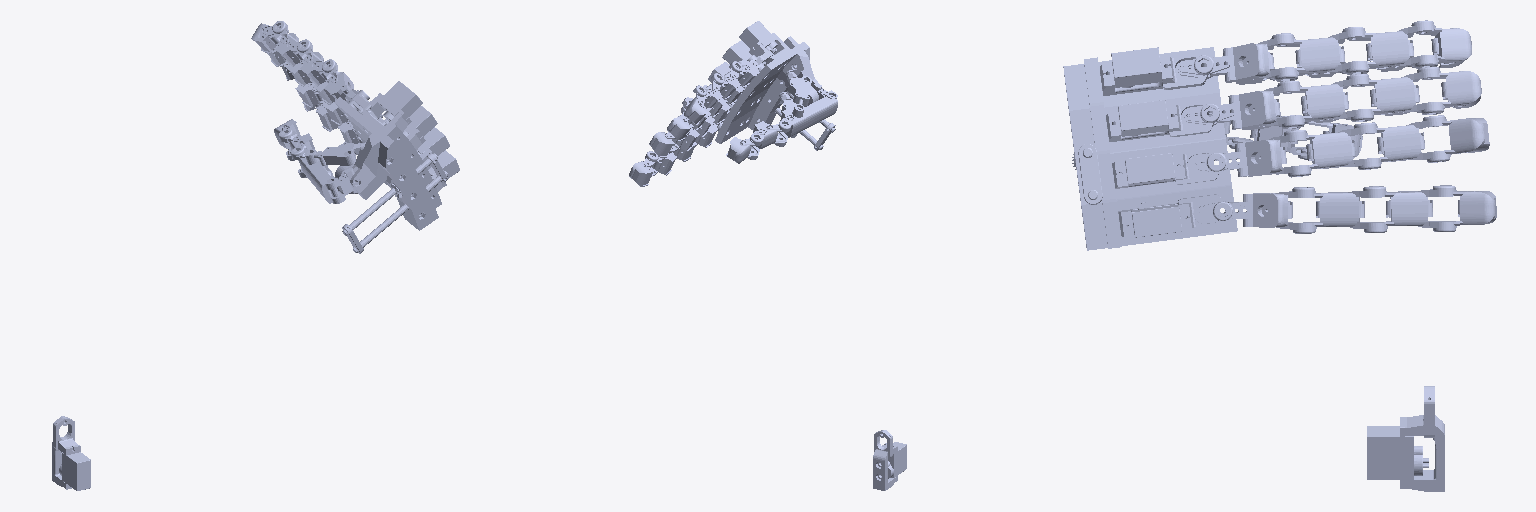
--- What the picture shows (computed from the rendered views, not written in the file) ---
Views: 3 orthographic renders of the robot side by side, from view 1: azimuth 30°, elevation 25°; view 2: azimuth 150°, elevation 25°; view 3: azimuth 270°, elevation 25°.
Robot: roborscht_v1 — 22 links, 21 joints (21 revolute); root link base_link; default pose: every joint at zero.
Visible links, largest first — view 1: wrist_link, base_link, thumb_aa_link, thumb_metacarpal_link, index_metacarpal_link, index_proximal_link, index_middle_link, index_distal_link; view 2: wrist_link, base_link, thumb_metacarpal_link, thumb_aa_link, thumb_proximal_link, index_metacarpal_link; view 3: wrist_link, base_link, index_metacarpal_link, middle_metacarpal_link, ring_metacarpal_link, little_metacarpal_link, index_proximal_link, index_middle_link, middlle_middle_link, middle_proximal_link, little_proximal_link, ring_proximal_link (+7 smaller).
Boxes of the visible links, left/top/right/bottom form: wrist_link: left=334, top=81, right=459, bottom=253; base_link: left=52, top=416, right=90, bottom=490; thumb_aa_link: left=318, top=142, right=365, bottom=203; thumb_metacarpal_link: left=290, top=146, right=339, bottom=203; index_metacarpal_link: left=322, top=59, right=369, bottom=112; index_proximal_link: left=297, top=39, right=329, bottom=86; index_middle_link: left=272, top=21, right=319, bottom=66; index_distal_link: left=251, top=23, right=294, bottom=53; wrist_link: left=708, top=21, right=835, bottom=150; base_link: left=873, top=430, right=906, bottom=490; thumb_metacarpal_link: left=775, top=96, right=837, bottom=146; thumb_aa_link: left=779, top=70, right=837, bottom=112; thumb_proximal_link: left=748, top=121, right=785, bottom=159; index_metacarpal_link: left=721, top=55, right=766, bottom=87; wrist_link: left=1063, top=47, right=1237, bottom=250; base_link: left=1367, top=386, right=1444, bottom=491; index_metacarpal_link: left=1178, top=33, right=1298, bottom=84; middle_metacarpal_link: left=1184, top=81, right=1304, bottom=129; ring_metacarpal_link: left=1191, top=130, right=1311, bottom=177; little_metacarpal_link: left=1197, top=187, right=1316, bottom=233; index_proximal_link: left=1275, top=27, right=1369, bottom=77; index_middle_link: left=1347, top=20, right=1438, bottom=71; middlle_middle_link: left=1351, top=67, right=1444, bottom=115; middle_proximal_link: left=1283, top=74, right=1373, bottom=122; little_proximal_link: left=1303, top=186, right=1387, bottom=232; ring_proximal_link: left=1289, top=122, right=1381, bottom=169.
Bounding box of the posed robot: 0.2622 × 0.207 × 0.331 m (x, y, z).
Meshes: 22 distinct files referenced, 22 mesh visuals loaded (22 binary STL).

robot.urdf — roborscht_v1:
<?xml version="1.0" encoding="utf-8"?>
<!-- This URDF was automatically created by SolidWorks to URDF Exporter! Originally created by Stephen Brawner ([email redacted]) 
     Commit Version: 1.6.0-4-g7f85cfe  Build Version: 1.6.7995.38578
     For more information, please see http://wiki.ros.org/sw_urdf_exporter -->
<robot
  name="roborscht_v1">
  <link name="base_link">
    <inertial>
      <origin
        xyz="0.19082 0.2446 0.36397"
        rpy="0 0 0" />
      <mass
        value="1.6006" />
      <inertia
        ixx="0.0027065"
        ixy="-1.4207E-06"
        ixz="-1.8502E-05"
        iyy="0.0027153"
        iyz="-4.5228E-06"
        izz="0.0025317" />
    </inertial>
    <visual>
      <origin
        xyz="0 0 0"
        rpy="0 0 0" />
      <geometry>
        <mesh
          filename="package://roborscht_description/meshes/roborscht_v1/base_link.STL" />
      </geometry>
      <material
        name="">
        <color
          rgba="0.79216 0.81961 0.93333 1" />
      </material>
    </visual>
    <collision>
      <origin
        xyz="0 0 0"
        rpy="0 0 0" />
      <geometry>
        <mesh
          filename="package://roborscht_description/meshes/roborscht_v1/base_link.STL" />
      </geometry>
    </collision>
  </link>
  <link
    name="wrist_link">
    <inertial>
      <origin xyz="0.018305 -0.013109 -0.086448" rpy="0 0 0" />
      <mass
        value="0.11966" />
      <inertia
        ixx="4.4947E-05"
        ixy="-9.08E-06"
        ixz="3.6653E-06"
        iyy="4.1917E-05"
        iyz="2.668E-07"
        izz="6.8158E-05" />
    </inertial>
    <visual>
      <origin
        xyz="0 0 0"
        rpy="0 0 0" />
      <geometry>
        <mesh
          filename="package://roborscht_description/meshes/roborscht_v1/wrist_link.STL" />
      </geometry>
      <material
        name="">
        <color
          rgba="0.79216 0.81961 0.93333 1" />
      </material>
    </visual>
    <collision>
      <origin
        xyz="0 0 0"
        rpy="0 0 0" />
      <geometry>
        <mesh
          filename="package://roborscht_description/meshes/roborscht_v1/wrist_link.STL" />
      </geometry>
    </collision>
  </link>
  <joint
    name="wrist_joint"
    type="revolute">
    <origin
      xyz="0.12924 -0.17081 0.21193"
      rpy="-2.1474 0.41016 1.317" />
    <parent
      link="base_link" />
    <child
      link="wrist_link" />
    <axis
      xyz="0 0 1" />
    <limit
      lower="-0.35"
      upper="0.55"
      effort="0"
      velocity="0" />
  </joint>
  <link
    name="thumb_aa_link">
    <inertial>
      <origin
        xyz="-0.00212660017077074 1.7079246905638E-09 0.0162362437939987"
        rpy="0 0 0" />
      <mass
        value="0.00898644503420836" />
      <inertia
        ixx="3.35433913138657E-07"
        ixy="-1.69313470342621E-13"
        ixz="-6.94103606730084E-08"
        iyy="5.19122859673337E-07"
        iyz="-2.81811335710078E-17"
        izz="3.85453778045213E-07" />
    </inertial>
    <visual>
      <origin
        xyz="0 0 0"
        rpy="0 0 0" />
      <geometry>
        <mesh
          filename="package://roborscht_description/meshes/roborscht_v1/thumb_aa_link.STL" />
      </geometry>
      <material
        name="">
        <color
          rgba="0.79216 0.81961 0.93333 1" />
      </material>
    </visual>
    <collision>
      <origin
        xyz="0 0 0"
        rpy="0 0 0" />
      <geometry>
        <mesh
          filename="package://roborscht_description/meshes/roborscht_v1/thumb_aa_link.STL" />
      </geometry>
    </collision>
  </link>
  <joint
    name="thumb_aa_joint"
    type="revolute">
    <origin
      xyz="-0.0056393 -0.025446 -0.045227"
      rpy="-1.7505 -1.3806 -1.7419" />
    <parent
      link="wrist_link" />
    <child
      link="thumb_aa_link" />
    <axis
      xyz="0 0 1" />
    <limit
      lower="-0.3"
      upper="1.0"
      effort="0"
      velocity="0" />
  </joint>
  <link name="thumb_metacarpal_link">
    <inertial>
      <origin
        xyz="-8.60721114019913E-05 -0.00971093698909487 0.00950106301461773"
        rpy="0 0 0" />
      <mass
        value="0.0122468064217174" />
      <inertia
        ixx="2.77460428043579E-06"
        ixy="3.45217423783368E-07"
        ixz="8.70989574211703E-11"
        iyy="2.75392415515937E-07"
        iyz="-3.6631502566146E-10"
        izz="2.92983215462873E-06" />
    </inertial>
    <visual>
      <origin
        xyz="0 0 0"
        rpy="0 0 0" />
      <geometry>
        <mesh
          filename="package://roborscht_description/meshes/roborscht_v1/thumb_metacarpal_link.STL" />
      </geometry>
      <material
        name="">
        <color
          rgba="0.79216 0.81961 0.93333 1" />
      </material>
    </visual>
    <collision>
      <origin
        xyz="0 0 0"
        rpy="0 0 0" />
      <geometry>
        <mesh
          filename="package://roborscht_description/meshes/roborscht_v1/thumb_metacarpal_link.STL" />
      </geometry>
    </collision>
  </link>
  <joint
    name="thumb_metacarpal_joint"
    type="revolute">
    <origin
      xyz="0.010656 -0.0095 0.045101"
      rpy="1.5708 0.31307 -3.1416" />
    <parent
      link="thumb_aa_link" />
    <child
      link="thumb_metacarpal_link" />
    <axis
      xyz="0 0 1" />
    <limit
      lower="-0.3"
      upper="0"
      effort="0"
      velocity="0" />
  </joint>
  <link
    name="thumb_proximal_link">
    <inertial>
      <origin
        xyz="0.018149214818829 -0.00455519718647185 0.00799344247498654"
        rpy="0 0 0" />
      <mass
        value="0.00457448200289434" />
      <inertia
        ixx="8.91295201558358E-08"
        ixy="-3.01101643920931E-09"
        ixz="-2.40835659192878E-10"
        iyy="1.28490375435549E-07"
        iyz="-1.11699068650879E-11"
        izz="1.83487451253534E-07" />
    </inertial>
    <visual>
      <origin
        xyz="0 0 0"
        rpy="0 0 0" />
      <geometry>
        <mesh
          filename="package://roborscht_description/meshes/roborscht_v1/thumb_proximal_link.STL" />
      </geometry>
      <material
        name="">
        <color
          rgba="0.79216 0.81961 0.93333 1" />
      </material>
    </visual>
    <collision>
      <origin
        xyz="0 0 0"
        rpy="0 0 0" />
      <geometry>
        <mesh
          filename="package://roborscht_description/meshes/roborscht_v1/thumb_proximal_link.STL" />
      </geometry>
    </collision>
  </link>
  <joint
    name="thumb_proximal_joint"
    type="revolute">
    <origin
      xyz="-0.0089829 0.020526 0.0015"
      rpy="0 0 1.706" />
    <parent
      link="thumb_metacarpal_link" />
    <child
      link="thumb_proximal_link" />
    <axis
      xyz="0 0 1" />
    <limit
      lower="-1.2"
      upper="0"
      effort="0"
      velocity="0" />
    <mimic
      joint="thumb_metacarpal_joint"
      multiplier="1"
      offset="0" />
  </joint>
  <link
    name="thumb_distal_link">
    <inertial>
      <origin
        xyz="0.0141234269677802 -0.00526491643878635 0.00811935715786616"
        rpy="0 0 0" />
      <mass
        value="0.00324557810719338" />
      <inertia
        ixx="6.62419379953252E-08"
        ixy="7.47823317282738E-09"
        ixz="3.87177440285619E-10"
        iyy="7.00047283347757E-08"
        iyz="7.73937952275295E-10"
        izz="1.102707816134E-07" />
    </inertial>
    <visual>
      <origin
        xyz="0 0 0"
        rpy="0 0 0" />
      <geometry>
        <mesh
          filename="package://roborscht_description/meshes/roborscht_v1/thumb_distal_link.STL" />
      </geometry>
      <material
        name="">
        <color
          rgba="0.79216 0.81961 0.93333 1" />
      </material>
    </visual>
    <collision>
      <origin
        xyz="0 0 0"
        rpy="0 0 0" />
      <geometry>
        <mesh
          filename="package://roborscht_description/meshes/roborscht_v1/thumb_distal_link.STL" />
      </geometry>
    </collision>
  </link>
  <joint
    name="thumb_distal_joint"
    type="revolute">
    <origin
      xyz="0.033972 0 0"
      rpy="0 0 0.21321" />
    <parent
      link="thumb_proximal_link" />
    <child
      link="thumb_distal_link" />
    <axis
      xyz="0 1 0" />
    <limit
      lower="-1.2"
      upper="0"
      effort="0"
      velocity="0" />
    <mimic
      joint="thumb_proximal_joint"
      multiplier="1"
      offset="0" />
  </joint>
  <link
    name="index_metacarpal_link">
    <inertial>
      <origin
        xyz="2.55551413871902E-06 -0.0200961421256252 -0.00266508775681462"
        rpy="0 0 0" />
      <mass
        value="0.00537510181030488" />
      <inertia
        ixx="2.53059726687794E-07"
        ixy="1.87672034212162E-10"
        ixz="2.35491908925758E-11"
        iyy="1.08190444992497E-07"
        iyz="-2.205146950838E-08"
        izz="2.0581640988927E-07" />
    </inertial>
    <visual>
      <origin
        xyz="0 0 0"
        rpy="0 0 0" />
      <geometry>
        <mesh
          filename="package://roborscht_description/meshes/roborscht_v1/index_metacarpal_link.STL" />
      </geometry>
      <material
        name="">
        <color
          rgba="0.79216 0.81961 0.93333 1" />
      </material>
    </visual>
    <collision>
      <origin
        xyz="0 0 0"
        rpy="0 0 0" />
      <geometry>
        <mesh
          filename="package://roborscht_description/meshes/roborscht_v1/index_metacarpal_link.STL" />
      </geometry>
    </collision>
  </link>
  <joint
    name="index_metacarpal_joint"
    type="revolute">
    <origin
      xyz="0.030138 -0.062731 -0.088417"
      rpy="0.0049057 0.13081 1.0012" />
    <parent
      link="wrist_link" />
    <child
      link="index_metacarpal_link" />
    <axis
      xyz="0 1 0" />
    <limit
      lower="-0.3"
      upper="0.3"
      effort="0"
      velocity="0" />
  </joint>
  <link
    name="index_proximal_link">
    <inertial>
      <origin
        xyz="0.00051935573801689 0.0566644154125854 -0.0362930706995756"
        rpy="0 0 0" />
      <mass
        value="0.00457448190751612" />
      <inertia
        ixx="8.91294709194268E-08"
        ixy="-3.01112035431887E-09"
        ixz="-2.40840507284241E-10"
        iyy="1.28490383116722E-07"
        iyz="-1.11553357864659E-11"
        izz="1.83487409642401E-07" />
    </inertial>
    <visual>
      <origin
        xyz="0 0 0"
        rpy="0 0 0" />
      <geometry>
        <mesh
          filename="package://roborscht_description/meshes/roborscht_v1/index_proximal_link.STL" />
      </geometry>
      <material
        name="">
        <color
          rgba="0.79216 0.81961 0.93333 1" />
      </material>
    </visual>
    <collision>
      <origin
        xyz="0 0 0"
        rpy="0 0 0" />
      <geometry>
        <mesh
          filename="package://roborscht_description/meshes/roborscht_v1/index_proximal_link.STL" />
      </geometry>
    </collision>
  </link>
  <joint
    name="index_proximal_joint"
    type="revolute">
    <origin
      xyz="0.036287 -0.056392 0.053492"
      rpy="-1.5708 -0.00038125 -1.5708" />
    <parent
      link="index_metacarpal_link" />
    <child
      link="index_proximal_link" />
    <axis
      xyz="0 0 1" />
    <limit
      lower="-1.2"
      upper="0"
      effort="0"
      velocity="0" />
  </joint>
  <link
    name="index_middle_link">
    <inertial>
      <origin
        xyz="0.0177672195308634 -0.00447480480512841 0.007993160303187"
        rpy="0 0 0" />
      <mass
        value="0.00438641361681086" />
      <inertia
        ixx="8.46514970616483E-08"
        ixy="-3.0121684387915E-09"
        ixz="-2.30777816852129E-10"
        iyy="1.17446280140492E-07"
        iyz="-1.11038589645318E-11"
        izz="1.69859433490933E-07" />
    </inertial>
    <visual>
      <origin
        xyz="0 0 0"
        rpy="0 0 0" />
      <geometry>
        <mesh
          filename="package://roborscht_description/meshes/roborscht_v1/index_middle_link.STL" />
      </geometry>
      <material
        name="">
        <color
          rgba="0.79216 0.81961 0.93333 1" />
      </material>
    </visual>
    <collision>
      <origin
        xyz="0 0 0"
        rpy="0 0 0" />
      <geometry>
        <mesh
          filename="package://roborscht_description/meshes/roborscht_v1/index_middle_link.STL" />
      </geometry>
    </collision>
  </link>
  <joint
    name="index_middle_joint"
    type="revolute">
    <origin
      xyz="0.016342 0.06122 -0.044287"
      rpy="0 0 -0.018131" />
    <parent
      link="index_proximal_link" />
    <child
      link="index_middle_link" />
    <axis
      xyz="0 0 1" />
    <limit
      lower="-1.2"
      upper="0"
      effort="0"
      velocity="0" />
    <mimic
      joint="index_proximal_joint"
      multiplier="1"
      offset="0" />
  </joint>
  <link
    name="index_distal_link">
    <inertial>
      <origin
        xyz="0.00366251427721347 -3.08698911165584E-05 0.0038806389730299"
        rpy="0 0 0" />
      <mass
        value="0.00324557995169206" />
      <inertia
        ixx="6.62420271486912E-08"
        ixy="-7.47815444653509E-09"
        ixz="3.87202186472348E-10"
        iyy="7.00046561219008E-08"
        iyz="-7.73824259369657E-10"
        izz="1.10270705824311E-07" />
    </inertial>
    <visual>
      <origin
        xyz="0 0 0"
        rpy="0 0 0" />
      <geometry>
        <mesh
          filename="package://roborscht_description/meshes/roborscht_v1/index_distal_link.STL" />
      </geometry>
      <material
        name="">
        <color
          rgba="0.79216 0.81961 0.93333 1" />
      </material>
    </visual>
    <collision>
      <origin
        xyz="0 0 0"
        rpy="0 0 0" />
      <geometry>
        <mesh
          filename="package://roborscht_description/meshes/roborscht_v1/index_distal_link.STL" />
      </geometry>
    </collision>
  </link>
  <joint
    name="index_distal_joint"
    type="revolute">
    <origin
      xyz="0.048781 -0.010005 0.012"
      rpy="3.1416 0 2.8578" />
    <parent
      link="index_middle_link" />
    <child
      link="index_distal_link" />
    <axis
      xyz="0 0 1" />
    <limit
      lower="-1.2"
      upper="0"
      effort="0"
      velocity="0" />
    <mimic
      joint="index_middle_joint"
      multiplier="1"
      offset="0" />
  </joint>
  <link
    name="middle_metacarpal_link">
    <inertial>
      <origin
        xyz="-2.5556368423163E-06 -0.0200961422658983 -0.00233491248597001"
        rpy="0 0 0" />
      <mass
        value="0.00537510192303987" />
      <inertia
        ixx="2.53059728799771E-07"
        ixy="-1.87675445035106E-10"
        ixz="2.35492265131773E-11"
        iyy="1.08190441498981E-07"
        iyz="2.20514744483979E-08"
        izz="2.05816415107696E-07" />
    </inertial>
    <visual>
      <origin
        xyz="0 0 0"
        rpy="0 0 0" />
      <geometry>
        <mesh
          filename="package://roborscht_description/meshes/roborscht_v1/middle_metacarpal_link.STL" />
      </geometry>
      <material
        name="">
        <color
          rgba="0.79216 0.81961 0.93333 1" />
      </material>
    </visual>
    <collision>
      <origin
        xyz="0 0 0"
        rpy="0 0 0" />
      <geometry>
        <mesh
          filename="package://roborscht_description/meshes/roborscht_v1/middle_metacarpal_link.STL" />
      </geometry>
    </collision>
  </link>
  <joint
    name="middle_metacarpal_joint"
    type="revolute">
    <origin
      xyz="0.043051 -0.044144 -0.095435"
      rpy="3.1406 -0.043621 -2.1547" />
    <parent
      link="wrist_link" />
    <child
      link="middle_metacarpal_link" />
    <axis
      xyz="0 1 0" />
    <limit
      lower="-0.3"
      upper="0.3"
      effort="0"
      velocity="0" />
  </joint>
  <link
    name="middle_proximal_link">
    <inertial>
      <origin
        xyz="0.0177672184777303 -0.00447480460554911 -0.00600683926820553"
        rpy="0 0 0" />
      <mass
        value="0.00438641366401296" />
      <inertia
        ixx="8.46515025216562E-08"
        ixy="-3.01214419488868E-09"
        ixz="-2.30778007302227E-10"
        iyy="1.17446281165202E-07"
        iyz="-1.11068544415635E-11"
        izz="1.69859439907684E-07" />
    </inertial>
    <visual>
      <origin
        xyz="0 0 0"
        rpy="0 0 0" />
      <geometry>
        <mesh
          filename="package://roborscht_description/meshes/roborscht_v1/middle_proximal_link.STL" />
      </geometry>
      <material
        name="">
        <color
          rgba="0.79216 0.81961 0.93333 1" />
      </material>
    </visual>
    <collision>
      <origin
        xyz="0 0 0"
        rpy="0 0 0" />
      <geometry>
        <mesh
          filename="package://roborscht_description/meshes/roborscht_v1/middle_proximal_link.STL" />
      </geometry>
    </collision>
  </link>
  <joint
    name="middle_proximal_joint"
    type="revolute">
    <origin
      xyz="-0.006 -0.038786 0.002734"
      rpy="1.5708 0.054927 -1.5708" />
    <parent
      link="middle_metacarpal_link" />
    <child
      link="middle_proximal_link" />
    <axis
      xyz="0 0 1" />
    <limit
      lower="-1.2"
      upper="0"
      effort="0"
      velocity="0" />
  </joint>
  <link
    name="middlle_middle_link">
    <inertial>
      <origin
        xyz="0.0103632788799684 0.000678841691512277 0.00799344180940245"
        rpy="0 0 0" />
      <mass
        value="0.00457448194268923" />
      <inertia
        ixx="8.91294756344512E-08"
        ixy="-3.01109117758962E-09"
        ixz="-2.40840520697483E-10"
        iyy="1.28490383756608E-07"
        iyz="-1.11587706512643E-11"
        izz="1.83487415114074E-07" />
    </inertial>
    <visual>
      <origin
        xyz="0 0 0"
        rpy="0 0 0" />
      <geometry>
        <mesh
          filename="package://roborscht_description/meshes/roborscht_v1/middlle_middle_link.STL" />
      </geometry>
      <material
        name="">
        <color
          rgba="0.79216 0.81961 0.93333 1" />
      </material>
    </visual>
    <collision>
      <origin
        xyz="0 0 0"
        rpy="0 0 0" />
      <geometry>
        <mesh
          filename="package://roborscht_description/meshes/roborscht_v1/middlle_middle_link.STL" />
      </geometry>
    </collision>
  </link>
  <joint
    name="middle_middle_joint"
    type="revolute">
    <origin
      xyz="0.041033 -0.0051198 -0.014"
      rpy="0 0 0.014603" />
    <parent
      link="middle_proximal_link" />
    <child
      link="middlle_middle_link" />
    <axis
      xyz="0 0 1" />
    <limit
      lower="-1.2"
      upper="0"
      effort="0"
      velocity="0" />
    <mimic
      joint="middle_proximal_joint"
      multiplier="1"
      offset="0" />
  </joint>
  <link
    name="middle_distal_link">
    <inertial>
      <origin
        xyz="0.0141234268373494 -0.00526492133500917 0.00811935698880448"
        rpy="0 0 0" />
      <mass
        value="0.00324557630671349" />
      <inertia
        ixx="6.62418685370018E-08"
        ixy="7.47830978453938E-09"
        ixz="3.87123761716254E-10"
        iyy="7.00047995730817E-08"
        iyz="7.73990973497753E-10"
        izz="1.10270823893991E-07" />
    </inertial>
    <visual>
      <origin
        xyz="0 0 0"
        rpy="0 0 0" />
      <geometry>
        <mesh
          filename="package://roborscht_description/meshes/roborscht_v1/middle_distal_link.STL" />
      </geometry>
      <material
        name="">
        <color
          rgba="0.79216 0.81961 0.93333 1" />
      </material>
    </visual>
    <collision>
      <origin
        xyz="0 0 0"
        rpy="0 0 0" />
      <geometry>
        <mesh
          filename="package://roborscht_description/meshes/roborscht_v1/middle_distal_link.STL" />
      </geometry>
    </collision>
  </link>
  <joint
    name="middle_distal_joint"
    type="revolute">
    <origin
      xyz="0.026186 0.005234 0"
      rpy="0 0 0.058953" />
    <parent
      link="middlle_middle_link" />
    <child
      link="middle_distal_link" />
    <axis
      xyz="0 0 1" />
    <limit
      lower="-1.2"
      upper="0"
      effort="0"
      velocity="0" />
    <mimic
      joint="middle_middle_joint"
      multiplier="1"
      offset="0" />
  </joint>
  <link
    name="ring_metacarpal_link">
    <inertial>
      <origin
        xyz="2.5558155921368E-06 -0.0200961423741939 -0.00266508753084532"
        rpy="0 0 0" />
      <mass
        value="0.00537510186116502" />
      <inertia
        ixx="2.53059726207321E-07"
        ixy="1.87675208311563E-10"
        ixz="2.35495080597828E-11"
        iyy="1.08190440920274E-07"
        iyz="-2.20514762328278E-08"
        izz="2.05816411762273E-07" />
    </inertial>
    <visual>
      <origin
        xyz="0 0 0"
        rpy="0 0 0" />
      <geometry>
        <mesh
          filename="package://roborscht_description/meshes/roborscht_v1/ring_metacarpal_link.STL" />
      </geometry>
      <material
        name="">
        <color
          rgba="0.79216 0.81961 0.93333 1" />
      </material>
    </visual>
    <collision>
      <origin
        xyz="0 0 0"
        rpy="0 0 0" />
      <geometry>
        <mesh
          filename="package://roborscht_description/meshes/roborscht_v1/ring_metacarpal_link.STL" />
      </geometry>
    </collision>
  </link>
  <joint
    name="ring_metacarpal_joint"
    type="revolute">
    <origin
      xyz="0.056267 -0.025123 -0.090509"
      rpy="-0.00090966 -0.043624 0.98443" />
    <parent
      link="wrist_link" />
    <child
      link="ring_metacarpal_link" />
    <axis
      xyz="0 1 0" />
    <limit
      lower="-0.3"
      upper="0.3"
      effort="0"
      velocity="0" />
  </joint>
  <link
    name="ring_proximal_link">
    <inertial>
      <origin
        xyz="0.00803672323441859 0.000678842085853726 0.00800655769929925"
        rpy="0 0 0" />
      <mass
        value="0.00457448191785149" />
      <inertia
        ixx="8.91294904381879E-08"
        ixy="3.01105018861525E-09"
        ixz="-2.40839586648695E-10"
        iyy="1.28490379310832E-07"
        iyz="1.1165446913386E-11"
        izz="1.83487425909758E-07" />
    </inertial>
    <visual>
      <origin
        xyz="0 0 0"
        rpy="0 0 0" />
      <geometry>
        <mesh
          filename="package://roborscht_description/meshes/roborscht_v1/ring_proximal_link.STL" />
      </geometry>
      <material
        name="">
        <color
          rgba="0.79216 0.81961 0.93333 1" />
      </material>
    </visual>
    <collision>
      <origin
        xyz="0 0 0"
        rpy="0 0 0" />
      <geometry>
        <mesh
          filename="package://roborscht_description/meshes/roborscht_v1/ring_proximal_link.STL" />
      </geometry>
    </collision>
  </link>
  <joint
    name="ring_proximal_joint"
    type="revolute">
    <origin
      xyz="0.008 -0.064154 0.00060481"
      rpy="-1.5708 0.1203 1.5708" />
    <parent
      link="ring_metacarpal_link" />
    <child
      link="ring_proximal_link" />
    <axis
      xyz="0 0 1" />
    <limit
      lower="-1.2"
      upper="0"
      effort="0"
      velocity="0" />
  </joint>
  <link
    name="ring_middle_link">
    <inertial>
      <origin
        xyz="0.0177672179463802 -0.00447480439121201 0.00799316096311339"
        rpy="0 0 0" />
      <mass
        value="0.00438641367738747" />
      <inertia
        ixx="8.46515085444338E-08"
        ixy="-3.01213252400248E-09"
        ixz="-2.30777643314591E-10"
        iyy="1.17446281241568E-07"
        iyz="-1.1108145173672E-11"
        izz="1.69859446442338E-07" />
    </inertial>
    <visual>
      <origin
        xyz="0 0 0"
        rpy="0 0 0" />
      <geometry>
        <mesh
          filename="package://roborscht_description/meshes/roborscht_v1/ring_middle_link.STL" />
      </geometry>
      <material
        name="">
        <color
          rgba="0.79216 0.81961 0.93333 1" />
      </material>
    </visual>
    <collision>
      <origin
        xyz="0 0 0"
        rpy="0 0 0" />
      <geometry>
        <mesh
          filename="package://roborscht_description/meshes/roborscht_v1/ring_middle_link.STL" />
      </geometry>
    </collision>
  </link>
  <joint
    name="ring_middle_joint"
    type="revolute">
    <origin
      xyz="-0.0077859 0.005234 0.016"
      rpy="-3.1416 0 3.0896" />
    <parent
      link="ring_proximal_link" />
    <child
      link="ring_middle_link" />
    <axis
      xyz="0 0 1" />
    <limit
      lower="-1.2"
      upper="0"
      effort="0"
      velocity="0" />
    <mimic
      joint="ring_proximal_joint"
      multiplier="1"
      offset="0" />
  </joint>
  <link
    name="ring_distal_link">
    <inertial>
      <origin
        xyz="0.0141234206247906 -0.00526493842196291 0.00811939547333487"
        rpy="0 0 0" />
      <mass
        value="0.00324556506715118" />
      <inertia
        ixx="6.62415646671574E-08"
        ixy="7.47839889558974E-09"
        ixz="3.86394831534546E-10"
        iyy="7.00050969442095E-08"
        iyz="7.74207975379917E-10"
        izz="1.1027064954337E-07" />
    </inertial>
    <visual>
      <origin
        xyz="0 0 0"
        rpy="0 0 0" />
      <geometry>
        <mesh
          filename="package://roborscht_description/meshes/roborscht_v1/ring_distal_link.STL" />
      </geometry>
      <material
        name="">
        <color
          rgba="0.79216 0.81961 0.93333 1" />
      </material>
    </visual>
    <collision>
      <origin
        xyz="0 0 0"
        rpy="0 0 0" />
      <geometry>
        <mesh
          filename="package://roborscht_description/meshes/roborscht_v1/ring_distal_link.STL" />
      </geometry>
    </collision>
  </link>
  <joint
    name="ring_distal_joint"
    type="revolute">
    <origin
      xyz="0.033172 0 0"
      rpy="0 0 0.54436" />
    <parent
      link="ring_middle_link" />
    <child
      link="ring_distal_link" />
    <axis
      xyz="0 0 1" />
    <limit
      lower="-1.2"
      upper="0"
      effort="0"
      velocity="0" />
    <mimic
      joint="ring_middle_joint"
      multiplier="1"
      offset="0" />
  </joint>
  <link
    name="little_metacarpal_link">
    <inertial>
      <origin
        xyz="2.55532465909258E-06 -0.0200961401682641 -0.00266508804508281"
        rpy="0 0 0" />
      <mass
        value="0.00537510162825412" />
      <inertia
        ixx="2.53059725524858E-07"
        ixy="1.87671482756787E-10"
        ixz="2.35472302327314E-11"
        iyy="1.08190458239335E-07"
        iyz="-2.20514676837419E-08"
        izz="2.05816395059102E-07" />
    </inertial>
    <visual>
      <origin
        xyz="0 0 0"
        rpy="0 0 0" />
      <geometry>
        <mesh
          filename="package://roborscht_description/meshes/roborscht_v1/little_metacarpal_link.STL" />
      </geometry>
      <material
        name="">
        <color
          rgba="0.79216 0.81961 0.93333 1" />
      </material>
    </visual>
    <collision>
      <origin
        xyz="0 0 0"
        rpy="0 0 0" />
      <geometry>
        <mesh
          filename="package://roborscht_description/meshes/roborscht_v1/little_metacarpal_link.STL" />
      </geometry>
    </collision>
  </link>
  <joint
    name="little_metacarpal_joint"
    type="revolute">
    <origin
      xyz="0.06931 -0.0063499 -0.088509"
      rpy="-0.015289 -0.13001 1.081" />
    <parent
      link="wrist_link" />
    <child
      link="little_metacarpal_link" />
    <axis
      xyz="0 1 0" />
    <limit
      lower="-0.3"
      upper="0.3"
      effort="0"
      velocity="0" />
  </joint>
  <link
    name="little_proximal_link">
    <inertial>
      <origin
        xyz="0.00803672036560909 0.000678841480621417 0.0080065585558472"
        rpy="0 0 0" />
      <mass
        value="0.00457448154201389" />
      <inertia
        ixx="8.91294757401253E-08"
        ixy="3.01113640792464E-09"
        ixz="-2.40840583447907E-10"
        iyy="1.28490369090038E-07"
        iyz="1.11571512205911E-11"
        izz="1.83487402645381E-07" />
    </inertial>
    <visual>
      <origin
        xyz="0 0 0"
        rpy="0 0 0" />
      <geometry>
        <mesh
          filename="package://roborscht_description/meshes/roborscht_v1/little_proximal_link.STL" />
      </geometry>
      <material
        name="">
        <color
          rgba="0.79216 0.81961 0.93333 1" />
      </material>
    </visual>
    <collision>
      <origin
        xyz="0 0 0"
        rpy="0 0 0" />
      <geometry>
        <mesh
          filename="package://roborscht_description/meshes/roborscht_v1/little_proximal_link.STL" />
      </geometry>
    </collision>
  </link>
  <joint
    name="little_proximal_joint"
    type="revolute">
    <origin
      xyz="0.008 -0.065305 -0.004601"
      rpy="-1.5708 -0.079684 1.5708" />
    <parent
      link="little_metacarpal_link" />
    <child
      link="little_proximal_link" />
    <axis
      xyz="0 0 1" />
    <limit
      lower="-1.2"
      upper="0"
      effort="0"
      velocity="0" />
  </joint>
  <link
    name="little_middle_link">
    <inertial>
      <origin
        xyz="0.00761872298424608 0.000759234978640499 0.00800683976732608"
        rpy="0 0 0" />
      <mass
        value="0.00438641311203207" />
      <inertia
        ixx="8.46514985613874E-08"
        ixy="3.0121454054755E-09"
        ixz="-2.30778156194955E-10"
        iyy="1.17446259924008E-07"
        iyz="1.11073165540781E-11"
        izz="1.69859416605812E-07" />
    </inertial>
    <visual>
      <origin
        xyz="0 0 0"
        rpy="0 0 0" />
      <geometry>
        <mesh
          filename="package://roborscht_description/meshes/roborscht_v1/little_middle_link.STL" />
      </geometry>
      <material
        name="">
        <color
          rgba="0.79216 0.81961 0.93333 1" />
      </material>
    </visual>
    <collision>
      <origin
        xyz="0 0 0"
        rpy="0 0 0" />
      <geometry>
        <mesh
          filename="package://roborscht_description/meshes/roborscht_v1/little_middle_link.STL" />
      </geometry>
    </collision>
  </link>
  <joint
    name="little_middle_joint"
    type="revolute">
    <origin
      xyz="-0.032437 -0.0027769 0"
      rpy="0 0 0.11088" />
    <parent
      link="little_proximal_link" />
    <child
      link="little_middle_link" />
    <axis
      xyz="0 0 1" />
    <limit
      lower="-1.2"
      upper="0"
      effort="0"
      velocity="0" />
    <mimic
      joint="little_proximal_joint"
      multiplier="1"
      offset="0" />
  </joint>
  <link
    name="little_distal_link">
    <inertial>
      <origin
        xyz="0.00566252452102901 -3.08932309326382E-05 0.00788061552298523"
        rpy="0 0 0" />
      <mass
        value="0.00324556614832305" />
      <inertia
        ixx="6.62416918173547E-08"
        ixy="-7.47839575892777E-09"
        ixz="3.86604631920826E-10"
        iyy="7.0004950991728E-08"
        iyz="-7.74198658738252E-10"
        izz="1.10270607255224E-07" />
    </inertial>
    <visual>
      <origin
        xyz="0 0 0"
        rpy="0 0 0" />
      <geometry>
        <mesh
          filename="package://roborscht_description/meshes/roborscht_v1/little_distal_link.STL" />
      </geometry>
      <material
        name="">
        <color
          rgba="0.79216 0.81961 0.93333 1" />
      </material>
    </visual>
    <collision>
      <origin
        xyz="0 0 0"
        rpy="0 0 0" />
      <geometry>
        <mesh
          filename="package://roborscht_description/meshes/roborscht_v1/little_distal_link.STL" />
      </geometry>
    </collision>
  </link>
  <joint
    name="little_distal_joint"
    type="revolute">
    <origin
      xyz="-0.028244 0.0058079 0"
      rpy="0 0 -0.28665" />
    <parent
      link="little_middle_link" />
    <child
      link="little_distal_link" />
    <axis
      xyz="0 0 1" />
    <limit
      lower="-1.2"
      upper="0"
      effort="0"
      velocity="0" />
    <mimic
      joint="little_middle_joint"
      multiplier="1"
      offset="0" />
  </joint>
</robot>
